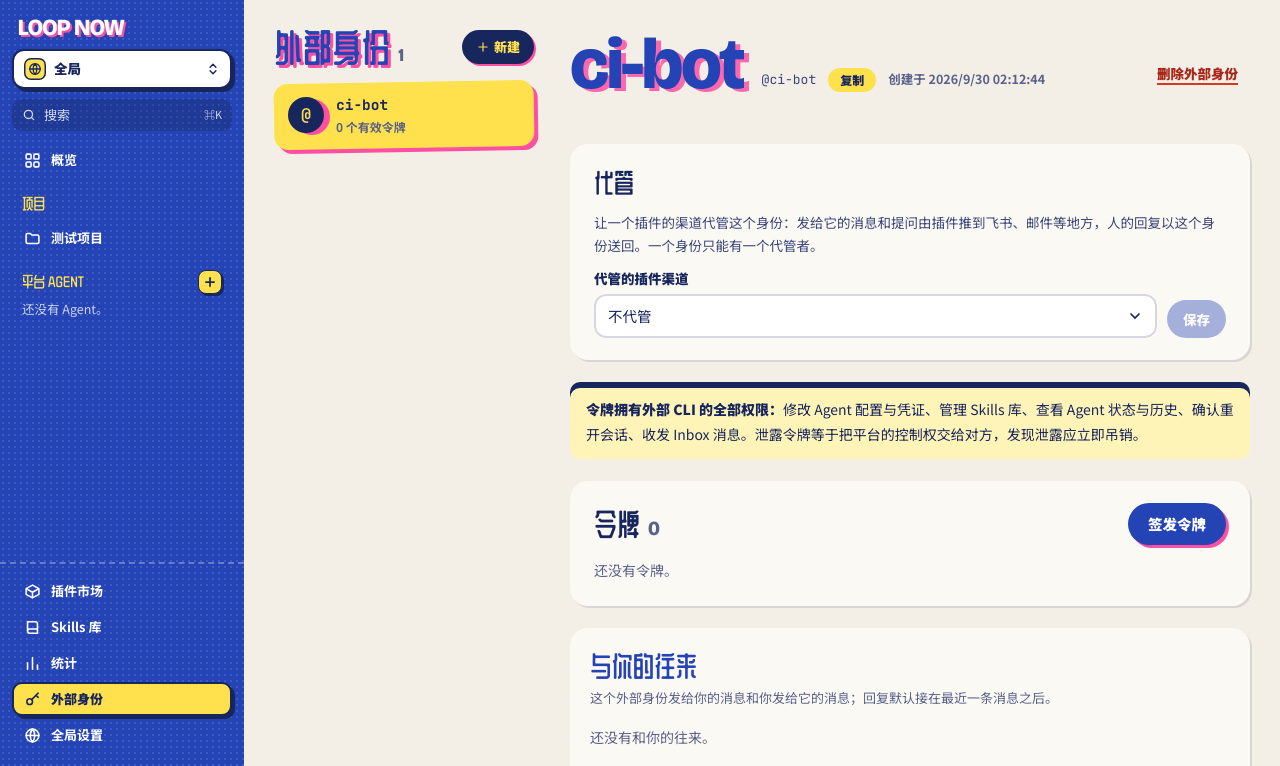
外部身份的代管 › 保存被拒（422，渠道不再声明代管）时写出原因
Select "Webhook 通知 · 回调" in the dropdown labelled "代管的插件渠道" at (876, 316), box left=594, top=294, right=1157, bottom=338
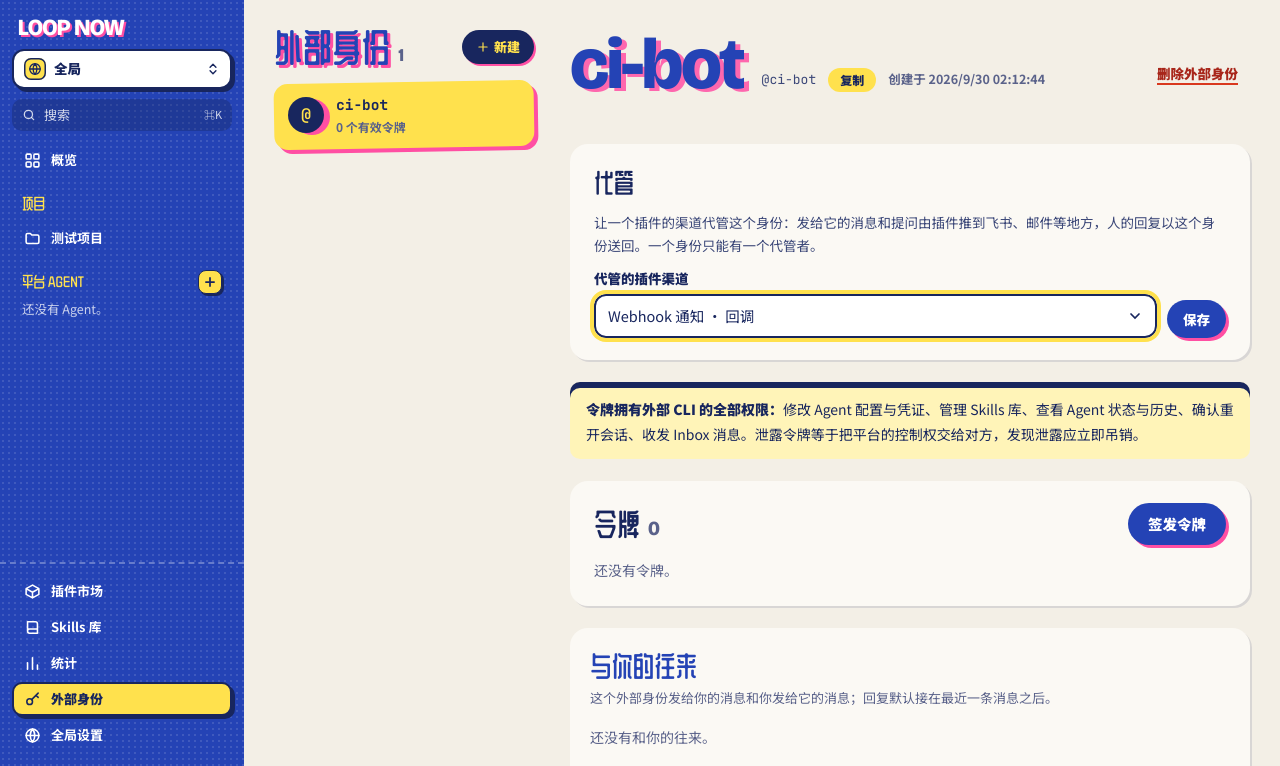
Click the button "保存" at (1196, 319), box left=1167, top=300, right=1226, bottom=338
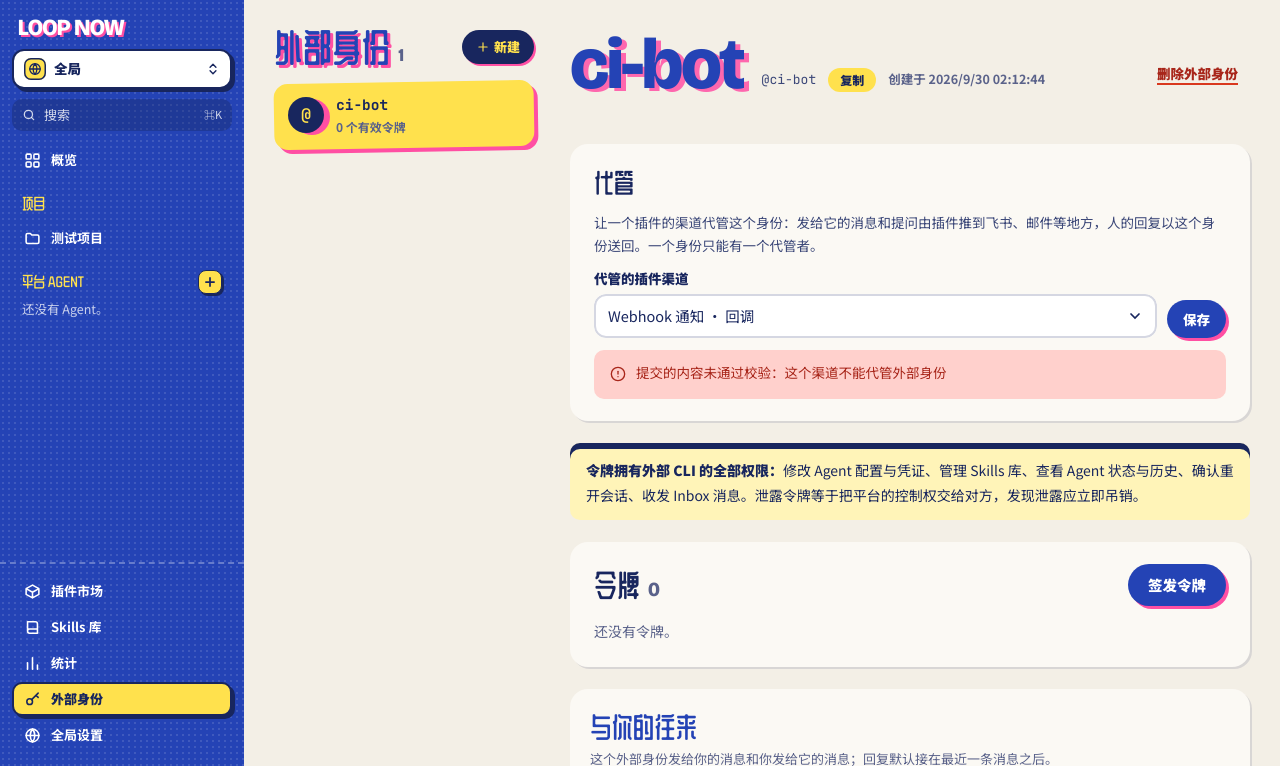
Expected: the text "提交的内容未通过校验：这个渠道不能代管外部身份" is shown, left=636, top=364, right=946, bottom=381
